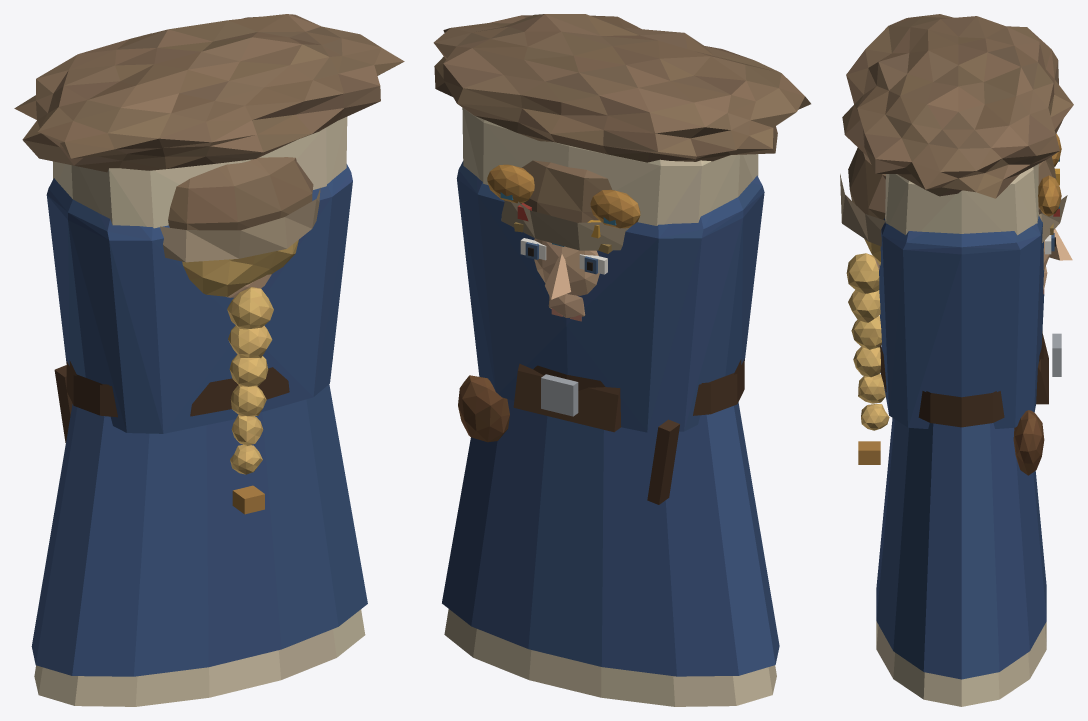
The model's file is Settler_Woman_2.glb.
3 renders of one model, left to right at view 1: azimuth 30°, elevation 25°; view 2: azimuth 150°, elevation 25°; view 3: azimuth 270°, elevation 25°, orthographic. The views are drawn at different scales.
Visible parts, largest first — view 1: Body, Head; view 2: Body, Head, Leg; view 3: Body, Head, Leg.
Part boxes in pixels (<box>): Body: <box>14,14,404,706</box>; Head: <box>160,157,320,514</box>; Body: <box>433,14,810,706</box>; Head: <box>501,160,630,321</box>; Leg: <box>513,363,621,432</box>; Body: <box>842,14,1073,706</box>; Head: <box>840,147,1072,464</box>; Leg: <box>1036,332,1048,404</box>.
Bounding box in the file's own units: 2.45 × 3.96 × 1.47.
1 material, 1 textured.
